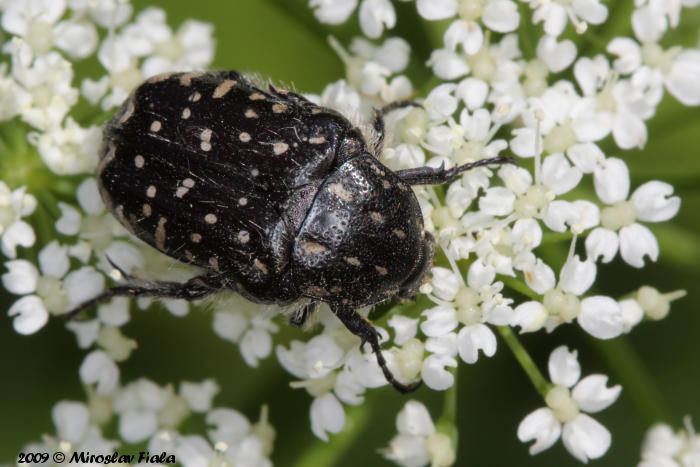Oxythyrea_funesta: (77, 63, 524, 400)
